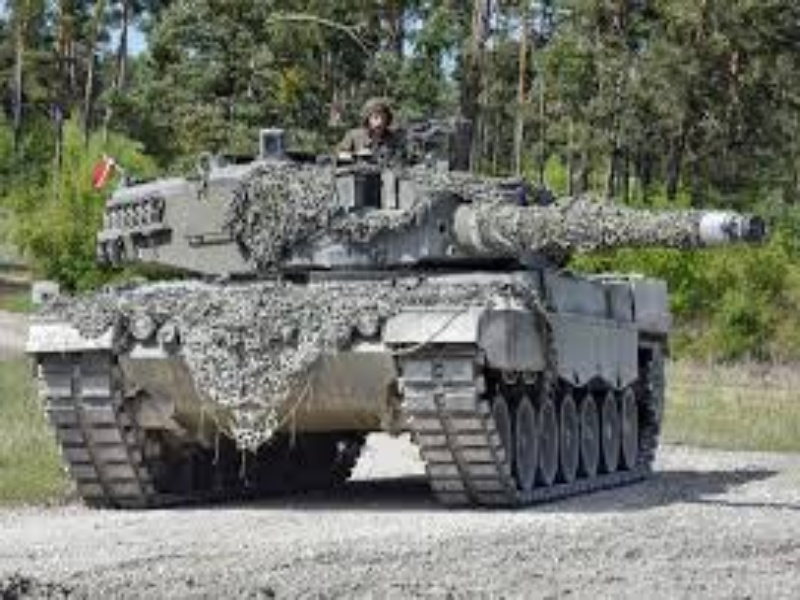tank: (30, 98, 768, 519)
